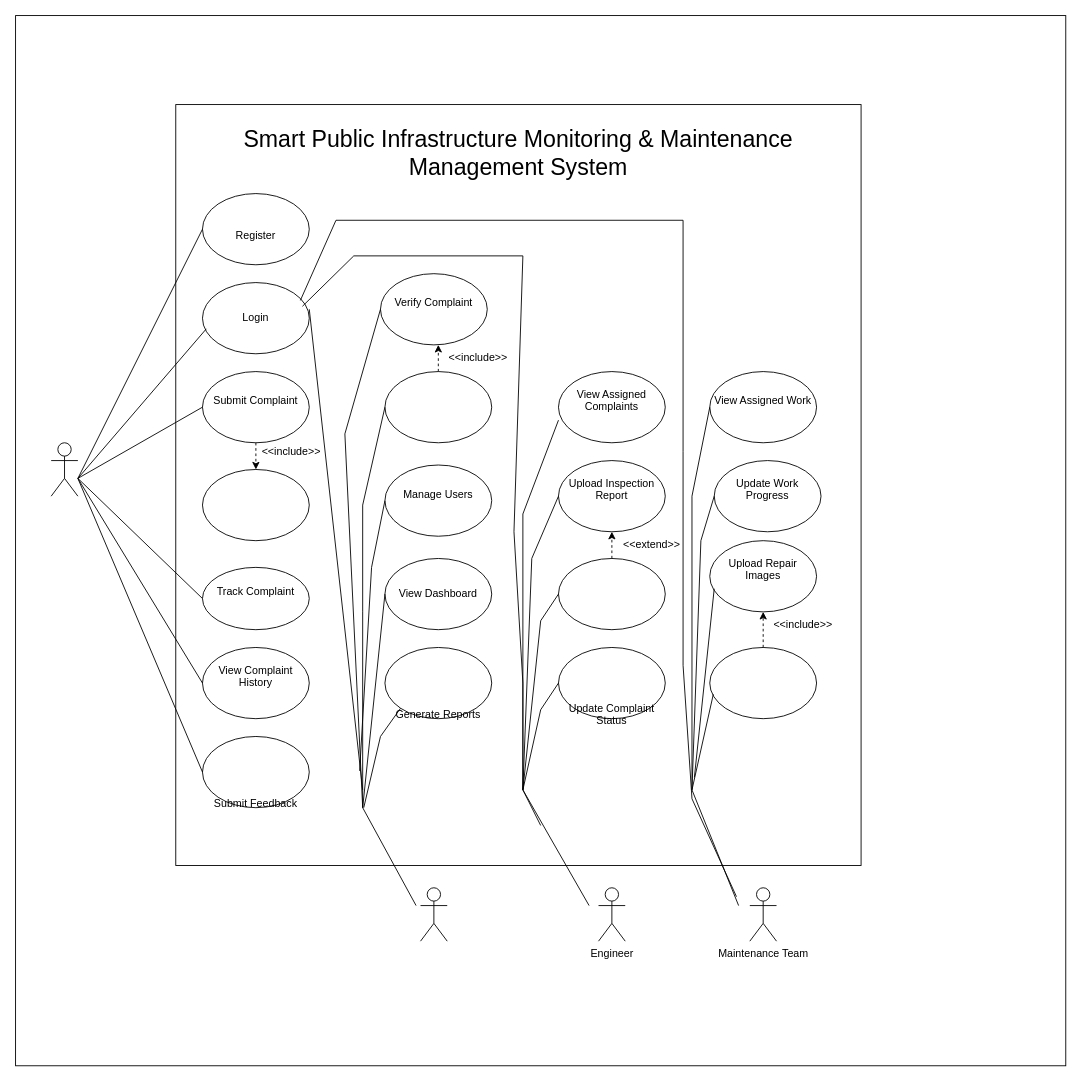
Image size: 1081x1081. Some labels were removed from this diagram. The centre of each missing label's shape, as x and y in pixels:
Administrator: (433,914)
Assign Engineer: (438,407)
Citizen: (64,469)
Recommend Maintenance: (611,594)
Submit Completion Report: (763,683)
Upload Image: (255,505)
